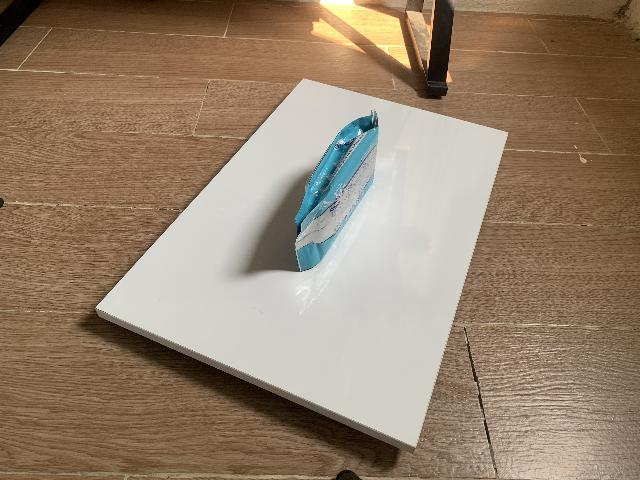Let-green_alcohol_wipes: (293, 109, 380, 272)
